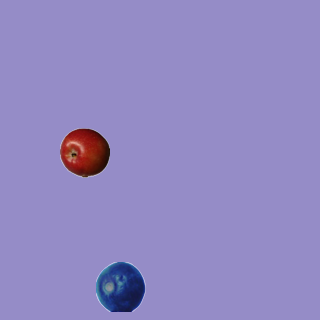Apple Braeburn: (59, 127, 109, 177)
Huckleberry: (95, 261, 145, 311)
